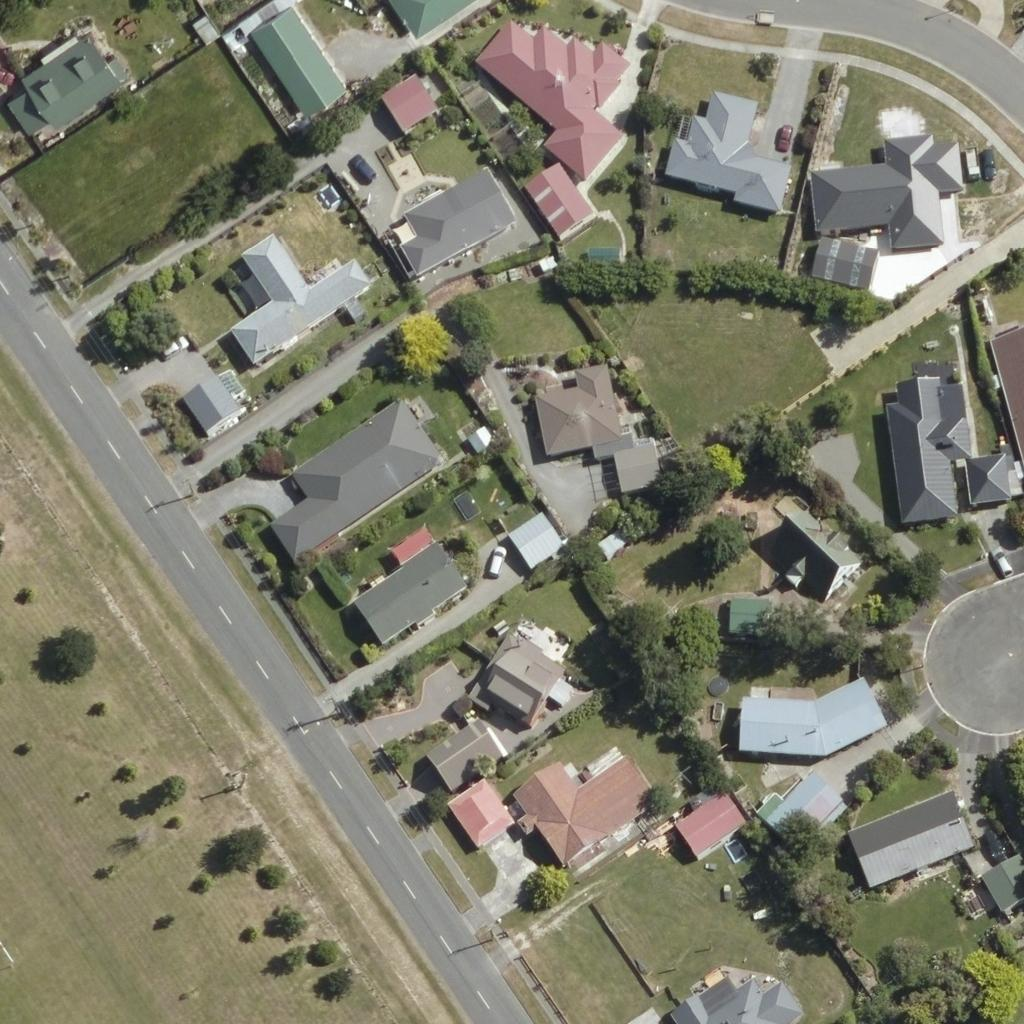car: (767, 117, 801, 151), (970, 143, 1004, 177), (345, 147, 379, 181), (154, 328, 188, 362), (479, 541, 513, 575), (984, 543, 1018, 577), (0, 58, 16, 92)
